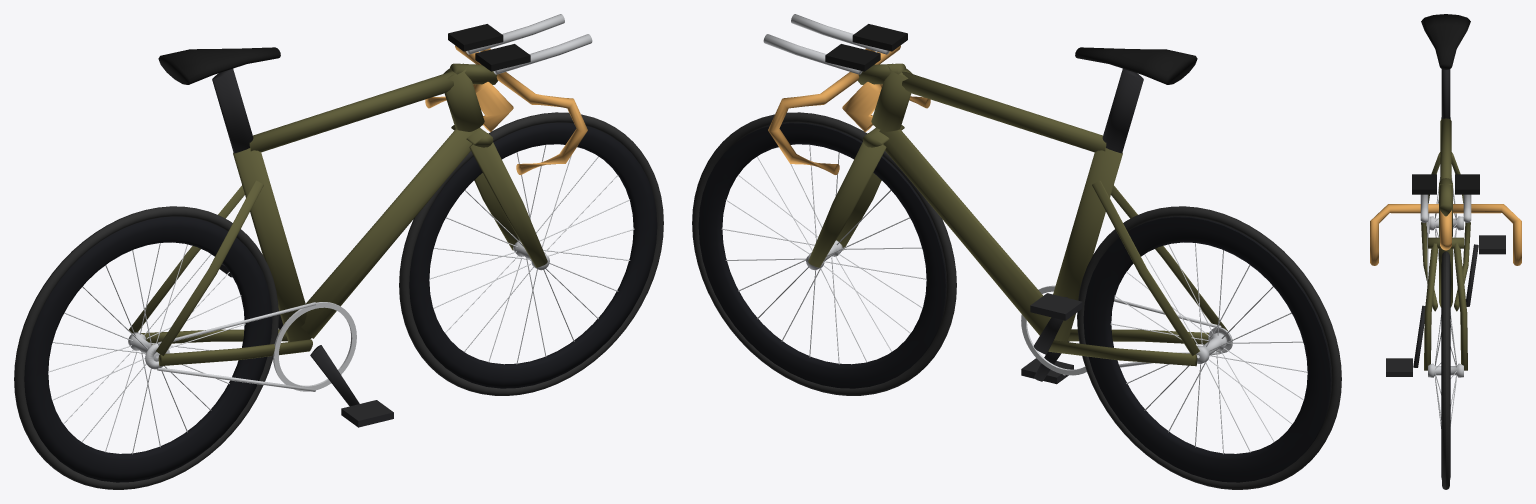
The model's file is bike.glb.
3 renders of one model, left to right at view 1: azimuth 30°, elevation 25°; view 2: azimuth 150°, elevation 25°; view 3: azimuth 270°, elevation 25°, orthographic. The views are drawn at different scales.
Parts seen in each view (by area): view 1: wheel_rear_rim, wheel_front_rim, wheel_rear_tyre, wheel_front_tyre, down_tube, seat_tube, top_tube, wheel_front_spokes, wheel_rear_spokes, fork_l, saddle, seatstay_l (+15 smaller); view 2: wheel_rear_rim, wheel_front_rim, wheel_rear_tyre, wheel_front_tyre, down_tube, seat_tube, top_tube, wheel_front_spokes, wheel_rear_spokes, fork_r, saddle, seatstay_r (+14 smaller); view 3: wheel_front_tyre, saddle, drop_l, drop_r, fork_l, fork_r, top_tube, pedal_r, wheel_front_spokes, clip_pad_l, clip_pad_r, pedal_l (+15 smaller).
Part boxes in pixels (x1,y1,x2,y2): wheel_rear_rim: (24,216,272,482); wheel_front_rim: (409,122,657,388); wheel_rear_tyre: (14,206,278,489); wheel_front_tyre: (399,112,663,395); down_tube: (301,129,476,338); seat_tube: (233,148,311,341); top_tube: (249,71,453,152); wheel_front_spokes: (429,145,634,364); wheel_rear_spokes: (48,243,245,454); fork_l: (469,133,547,267); saddle: (158,47,280,84); seatstay_l: (156,180,263,355); wheel_rear_rim: (1083,216,1331,482); wheel_front_rim: (698,122,946,388); wheel_rear_tyre: (1077,206,1341,489); wheel_front_tyre: (692,112,956,395); down_tube: (879,129,1049,335); seat_tube: (1049,148,1122,341); top_tube: (902,71,1106,152); wheel_front_spokes: (721,144,926,364); wheel_rear_spokes: (1110,243,1307,454); fork_r: (808,133,886,267); saddle: (1075,47,1197,84); seatstay_r: (1092,180,1199,355); wheel_front_tyre: (1442,251,1449,489); saddle: (1421,14,1470,69); drop_l: (1370,204,1438,265); drop_r: (1453,204,1521,265); fork_l: (1424,243,1438,370); fork_r: (1453,243,1467,370); top_tube: (1440,118,1451,179); pedal_r: (1479,235,1505,254); wheel_front_spokes: (1435,312,1456,428); clip_pad_l: (1412,174,1436,194); clip_pad_r: (1455,174,1479,194); pedal_l: (1386,358,1412,376).
Bounding box in the file's own units: 1.64 × 1.01 × 0.4248.
